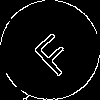F: (25, 25, 79, 79)
